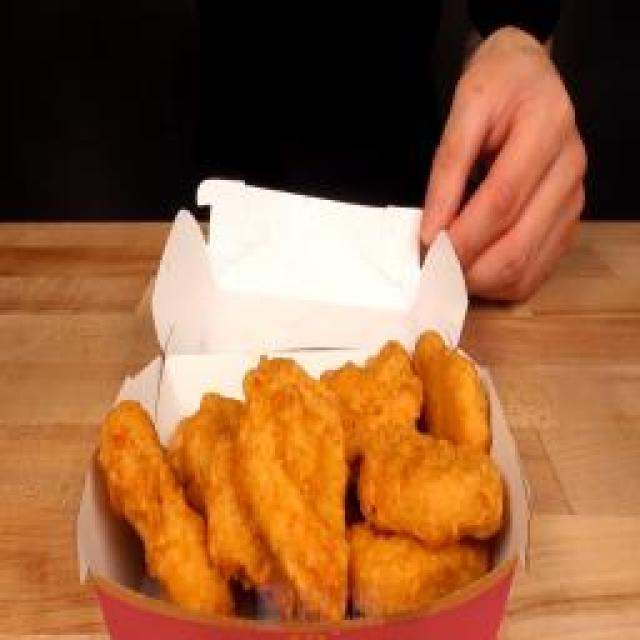Wet Waste: (97, 312, 515, 630)
